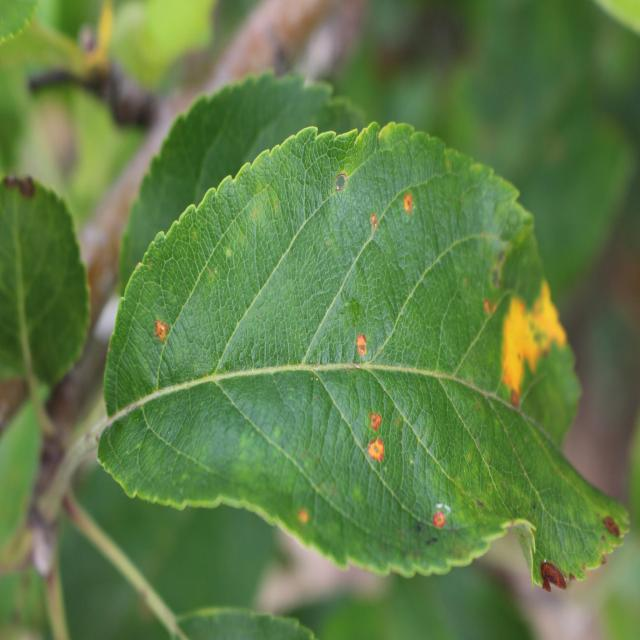Black Rot: (534, 547, 578, 605), (598, 506, 630, 558), (324, 163, 353, 201)
Rust: (502, 263, 575, 415), (131, 305, 184, 345), (426, 498, 454, 554), (346, 319, 376, 366), (361, 188, 381, 249), (399, 182, 419, 235), (354, 407, 386, 440), (294, 488, 312, 539), (363, 441, 388, 469)
